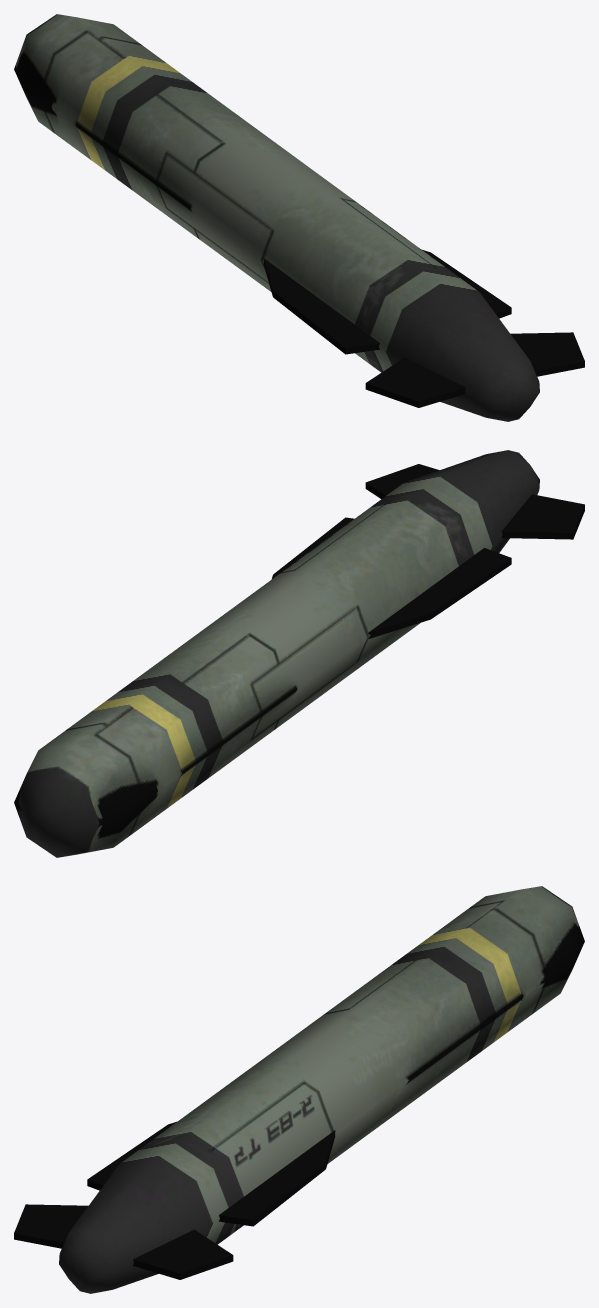
Rendered from torpedo.fbx.
The picture shows the model from 3 angles, top to bottom: view 1: azimuth 30°, elevation 25°; view 2: azimuth 150°, elevation 25°; view 3: azimuth 330°, elevation 25°; orthographic projection.
Visible parts, largest first — view 1: PipelineFBX1, PipelineFBX0; view 2: PipelineFBX1, PipelineFBX0; view 3: PipelineFBX1, PipelineFBX0.
Boxes of the visible parts, box(x1,y1,x2,y2) form: PipelineFBX1: box(14, 14, 584, 402); PipelineFBX0: box(15, 73, 539, 421); PipelineFBX1: box(14, 450, 584, 825); PipelineFBX0: box(14, 491, 584, 857); PipelineFBX1: box(14, 886, 584, 1279); PipelineFBX0: box(14, 945, 583, 1293).
Size of the model in its own units: 25 by 12.83 by 98.86.
Materials: 1 (1 with a texture image).
